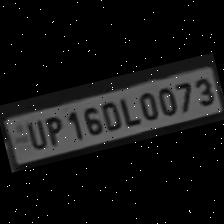0: (132, 86, 160, 122), (152, 82, 179, 118)
1: (59, 107, 85, 143)
3: (188, 72, 218, 109)
6: (76, 101, 104, 138)
7: (170, 78, 196, 114)
D: (95, 96, 122, 134)
L: (114, 92, 140, 128)
P: (40, 112, 68, 148)
U: (18, 115, 47, 151)
